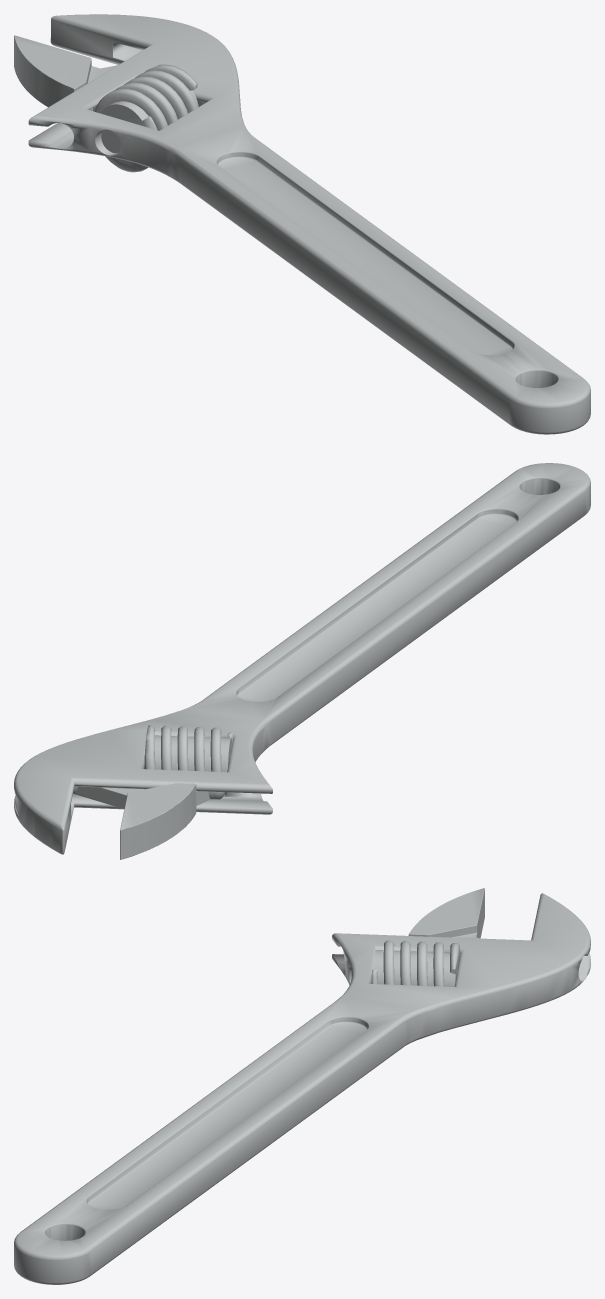
Rendered from 02-Tools_Adjustable Wrench.fbx.
3 views of the same model, one above another, from view 1: azimuth 30°, elevation 25°; view 2: azimuth 150°, elevation 25°; view 3: azimuth 330°, elevation 25° (orthographic). The views are drawn at different scales.
Visible parts, largest first — view 1: Adjustable Wrench, Adjustable Wrench_A, Adjustable Wrench_B; view 2: Adjustable Wrench, Adjustable Wrench_B, Adjustable Wrench_A; view 3: Adjustable Wrench, Adjustable Wrench_A, Adjustable Wrench_B.
Boxes of the visible parts, x1=… form: Adjustable Wrench: x1=28, y1=14, x2=590, y2=434; Adjustable Wrench_A: x1=94, y1=64, x2=198, y2=172; Adjustable Wrench_B: x1=14, y1=35, x2=117, y2=111; Adjustable Wrench: x1=14, y1=463, x2=590, y2=854; Adjustable Wrench_B: x1=73, y1=783, x2=224, y2=859; Adjustable Wrench_A: x1=144, y1=725, x2=233, y2=796; Adjustable Wrench: x1=14, y1=893, x2=590, y2=1284; Adjustable Wrench_A: x1=371, y1=940, x2=460, y2=986; Adjustable Wrench_B: x1=408, y1=888, x2=484, y2=959.
Bounding box in the file's own units: 9.7 × 3.16 × 39.52.
1 material, 1 textured.
